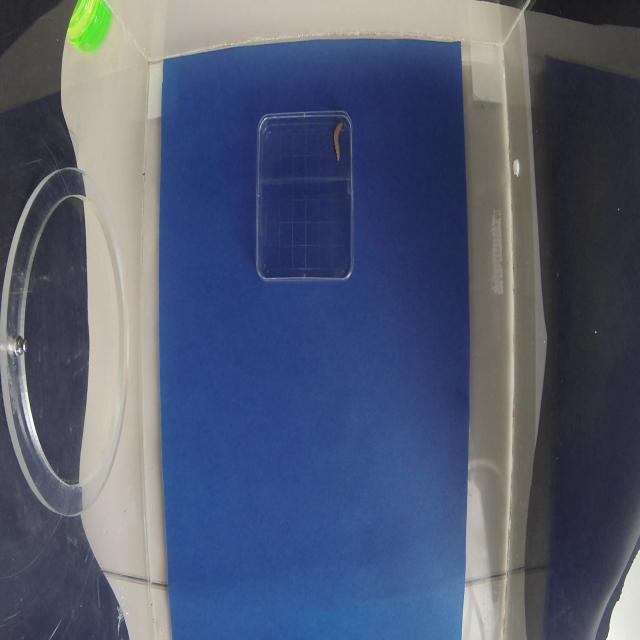larva: (330, 118, 344, 163)
